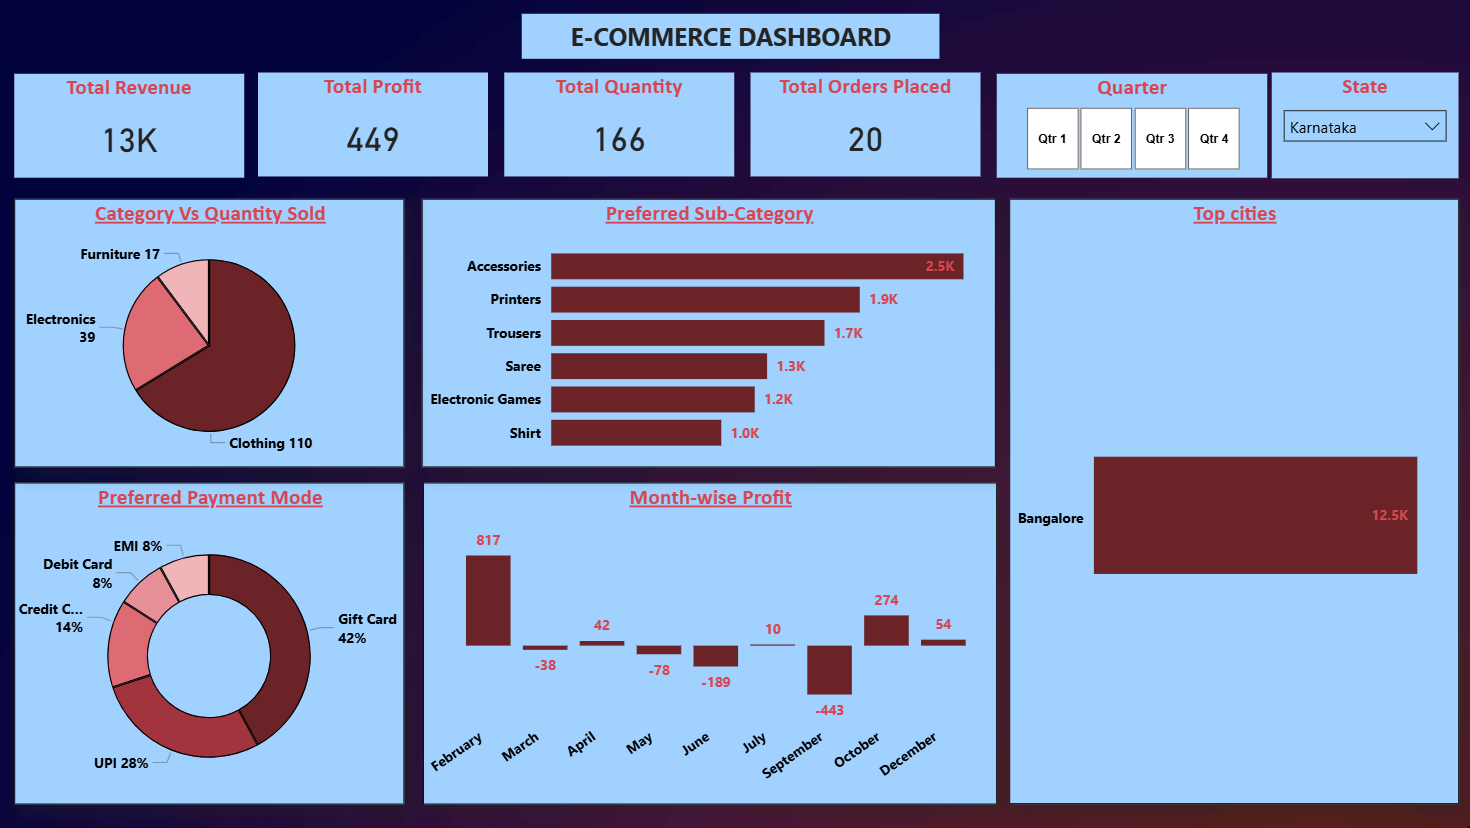

What the dashboard file says about the page in this screenshot:
{"tool":"powerbi","page":{"name":"Dashboard","canvas":[1280,720],"ordinal":0},"visuals":[{"type":"columnChart","title":"Month-wise Profit","fields":{"Category":["Orders.Order Date.Variation.Date Hierarchy.Month"],"Y":["Sum(Details.Profit)"]},"box":[369.8,419.8,498.8,280.2],"z":0},{"type":"clusteredBarChart","title":"Preferred Sub-Category","fields":{"Category":["Details.Sub-Category"],"Y":["Sum(Details.Amount)"]},"box":[368.9,173.3,498.9,233.3],"z":1000},{"type":"donutChart","title":"Preferred Payment Mode","fields":{"Category":["Details.PaymentMode"],"Y":["CountNonNull(Details.Order ID)"]},"box":[14,419.8,339.5,280.2],"z":2000},{"type":"pieChart","title":"Category Vs Quantity Sold","fields":{"Category":["Details.Category"],"Y":["Sum(Details.Quantity)"]},"box":[14,173.3,339.5,233.7],"z":3000},{"type":"barChart","title":"Top cities","fields":{"Category":["Orders.City"],"Y":["Sum(Details.Amount)"]},"box":[878.9,173.3,391.1,526.7],"z":4000},{"type":"card","title":"Total Revenue","fields":{"Values":["Sum(Details.Amount)"]},"box":[14,64,200,90.7],"z":5000},{"type":"card","title":"Total Profit","fields":{"Values":["Sum(Details.Profit)"]},"box":[225.6,63.3,200,90],"z":6000},{"type":"card","title":"Total Orders Placed","fields":{"Values":["Count(Details.Order ID)"]},"box":[654.4,63.3,200,90],"z":7000},{"type":"card","title":"Total Quantity","fields":{"Values":["Sum(Details.Quantity)"]},"box":[440,63.3,200,90],"z":8000},{"type":"slicer","title":"Quarter","fields":{"Values":["Orders.Order Date.Variation.Date Hierarchy.Quarter"]},"box":[868.9,64.4,235.6,90],"z":9000},{"type":"slicer","title":"State","fields":{"Values":["Orders.State"]},"box":[1107.8,63.3,162.2,92.2],"z":10000},{"type":"textbox","box":[455.6,12.2,363.3,38.9],"z":11000}]}

Visuals, with their boxes in screenshot pixels (x1, y1, x2, y2), scaled from the page's 1280x720 canvas onto the 1470x828 screenshot:
"Month-wise Profit" columnChart: [left=425, top=483, right=998, bottom=805]
"Preferred Sub-Category" clusteredBarChart: [left=424, top=199, right=997, bottom=468]
"Preferred Payment Mode" donutChart: [left=16, top=483, right=406, bottom=805]
"Category Vs Quantity Sold" pieChart: [left=16, top=199, right=406, bottom=468]
"Top cities" barChart: [left=1009, top=199, right=1459, bottom=805]
"Total Revenue" card: [left=16, top=74, right=246, bottom=178]
"Total Profit" card: [left=259, top=73, right=489, bottom=176]
"Total Orders Placed" card: [left=752, top=73, right=981, bottom=176]
"Total Quantity" card: [left=505, top=73, right=735, bottom=176]
"Quarter" slicer: [left=998, top=74, right=1268, bottom=178]
"State" slicer: [left=1272, top=73, right=1459, bottom=179]
textbox: [left=523, top=14, right=940, bottom=59]
